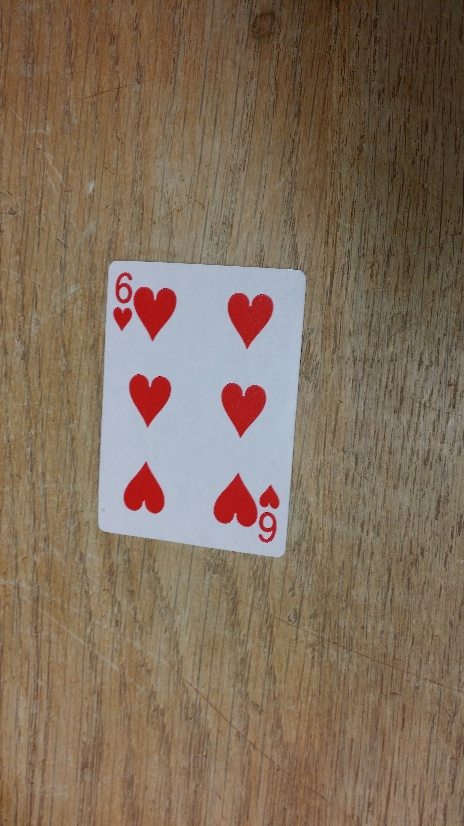H6: (111, 267, 135, 331), (259, 480, 281, 546)
